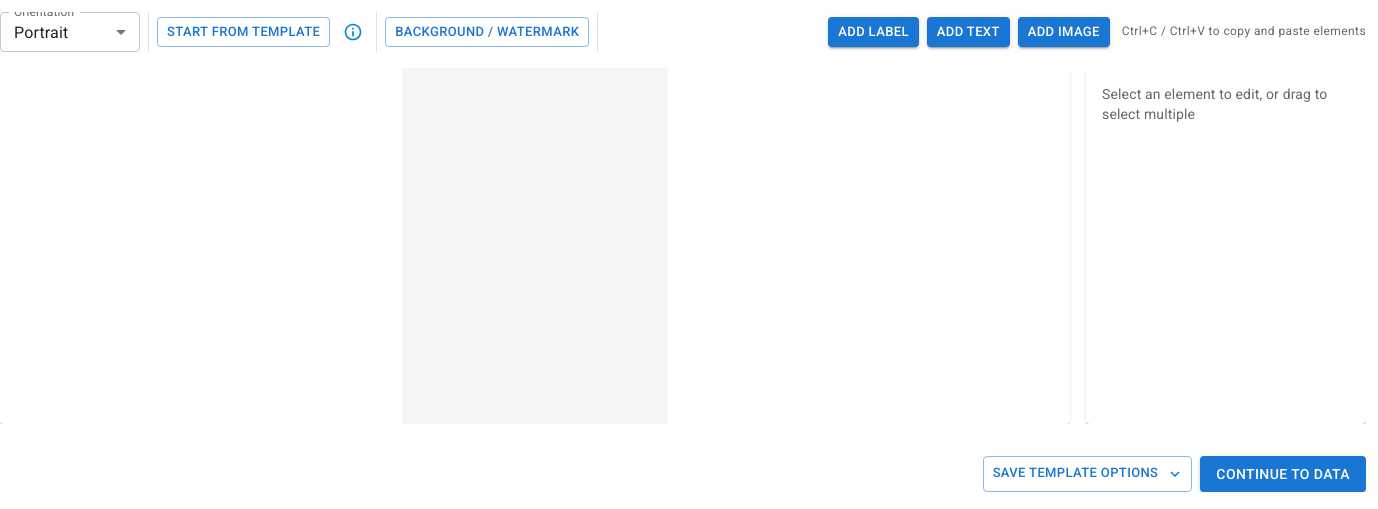
Scenario: DesignStep — save template flow › shows "Save" in the menu when the current template source is a saved user template
Click the button "Save Template Options" at [1087, 474], box x1=983 y1=456 x2=1192 y2=492
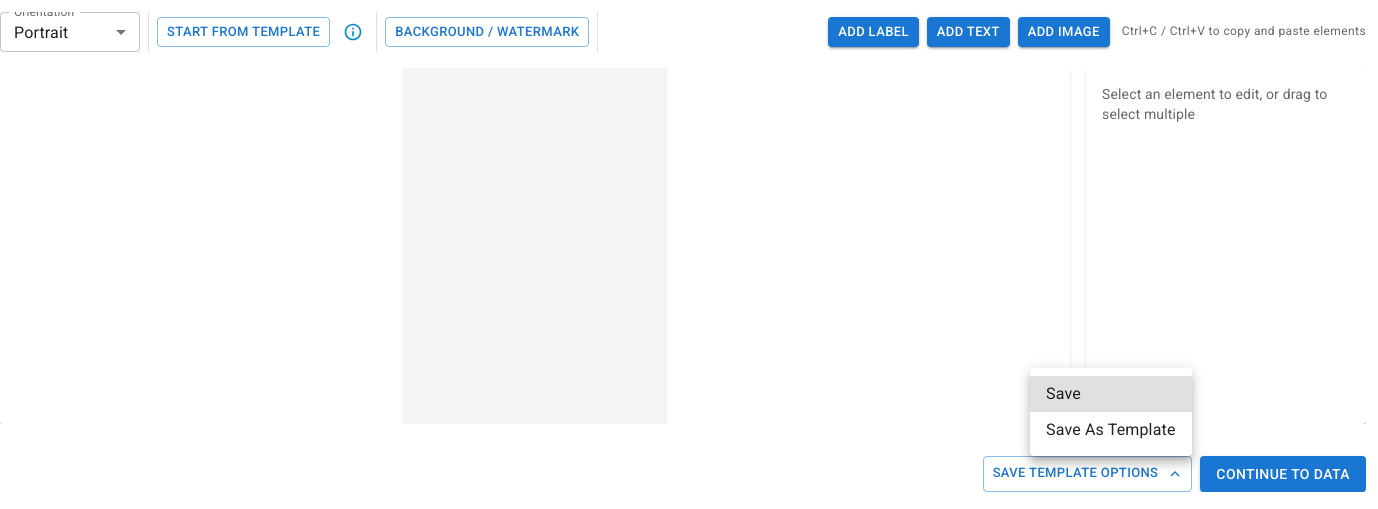
Now the menu item "Save" is shown, box x1=1030 y1=376 x2=1192 y2=412
